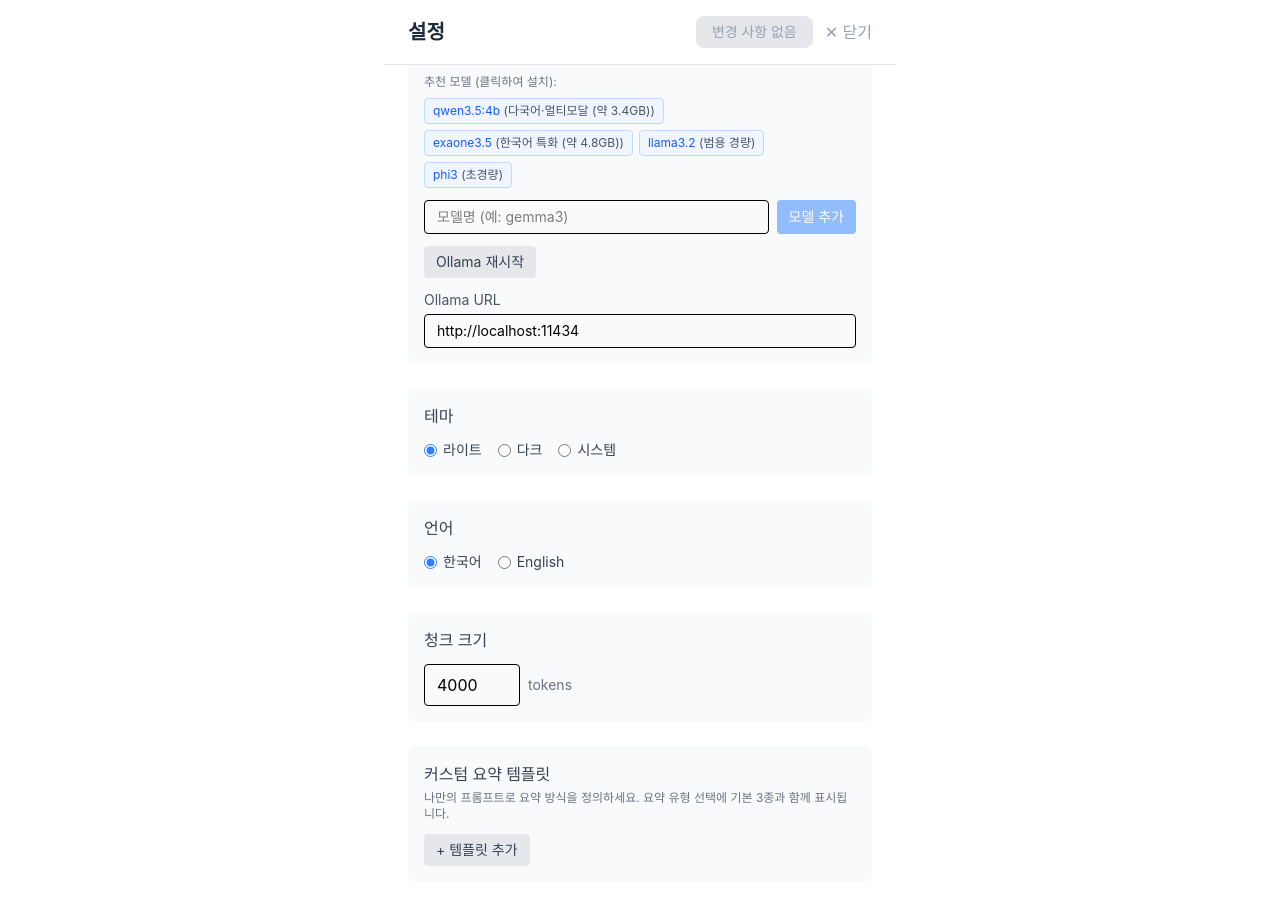
Test case: SettingsPanel — 저장 게이팅 / 전환 › 변경 후 저장 → updateSettings 반영 + 저장됨 버튼
This screenshot has width=1280, height=900.
(page scrolled)
What coordinates should you click on to do the following:
click the radio button labelled "다크"
I would click on:
 (504, 450)
Its box is top-left (498, 444), bottom-right (511, 456).
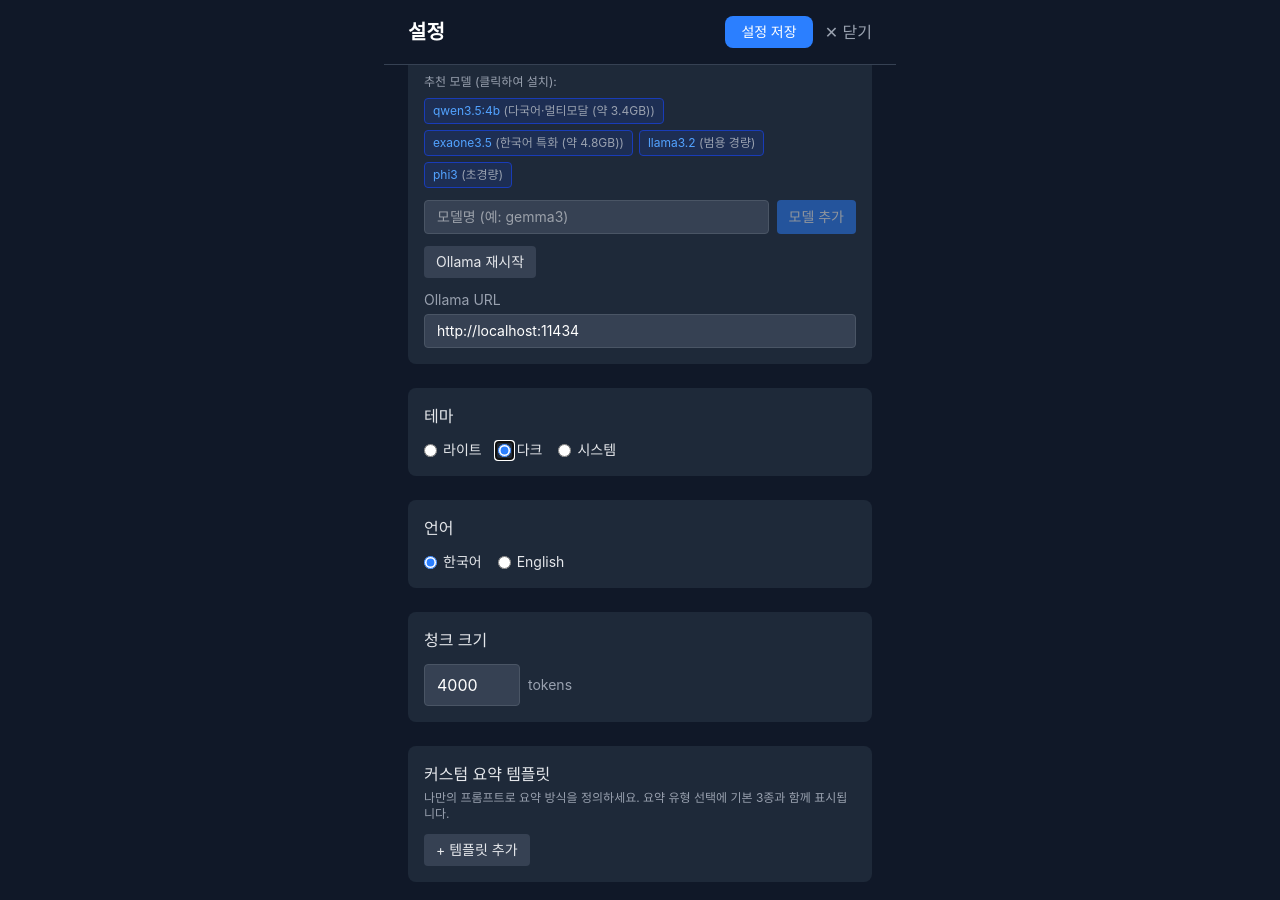
What coordinates should you click on to do the following:
click the button "설정 저장"
I would click on:
 (769, 32)
Its box is top-left (725, 16), bottom-right (813, 48).
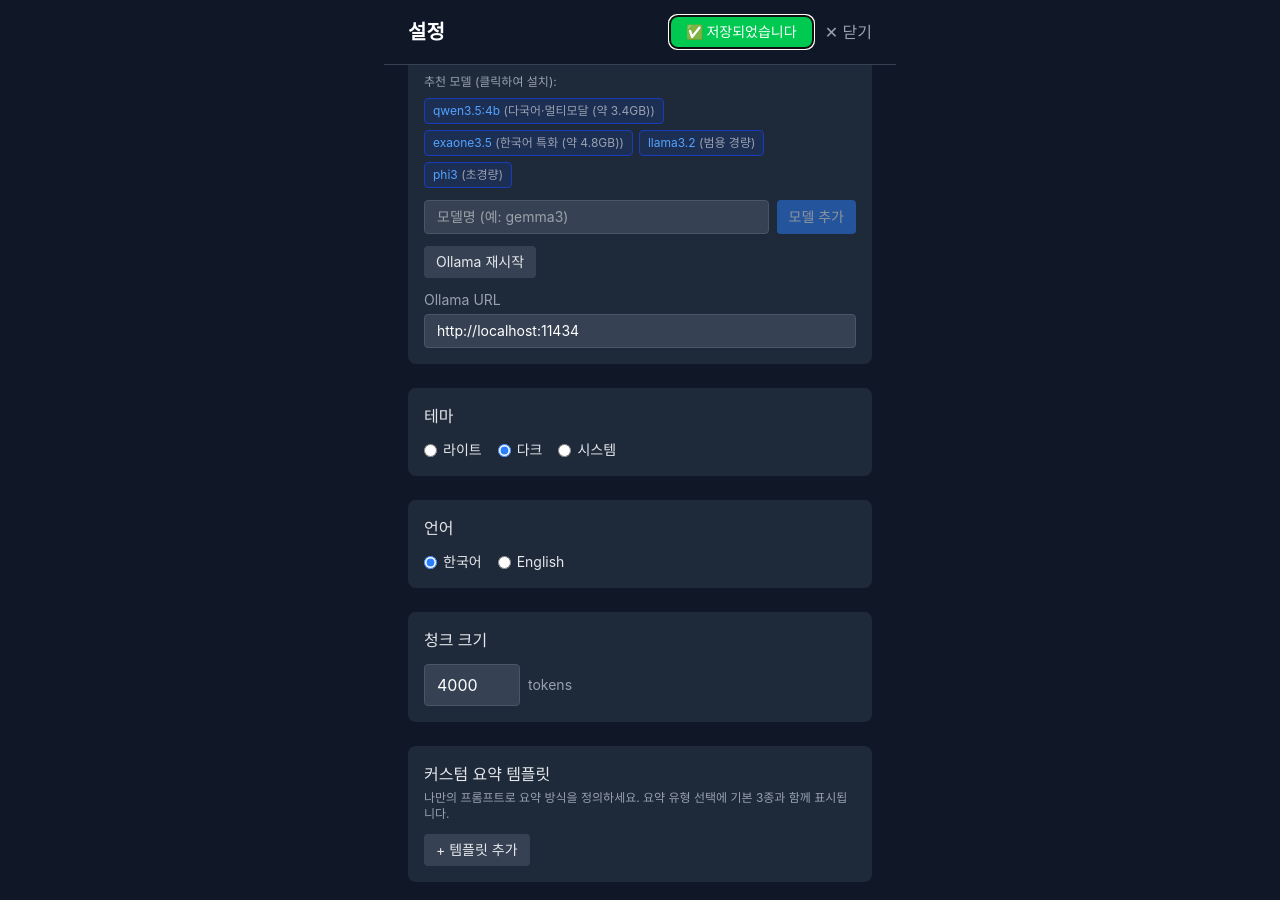
Result: the button "✅ 저장되었습니다" is shown at top-left (670, 16), bottom-right (813, 48)
